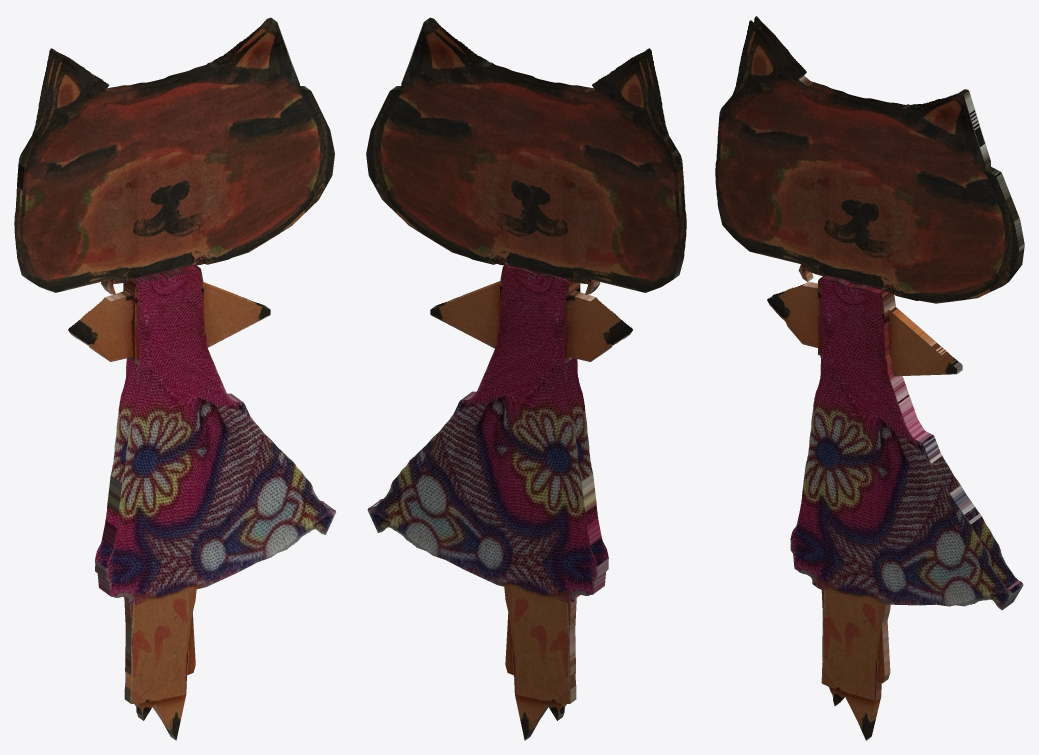
File: personaje3.fbx
3 renders of one model, left to right at view 1: azimuth 30°, elevation 25°; view 2: azimuth 150°, elevation 25°; view 3: azimuth 330°, elevation 25°, orthographic. The views are drawn at different scales.
Parts seen in each view (by area): view 1: Plane, Plane.001; view 2: Plane, Plane.001; view 3: Plane, Plane.001.
Boxes of the visible parts, <box> form: Plane: <box>14,17,334,740</box>; Plane.001: <box>95,265,336,604</box>; Plane: <box>366,17,686,740</box>; Plane.001: <box>367,265,608,602</box>; Plane: <box>715,16,1024,740</box>; Plane.001: <box>790,276,1023,610</box>.
Size of the model in its own units: 127 by 278 by 8.
Materials: 1 (1 with a texture image).
